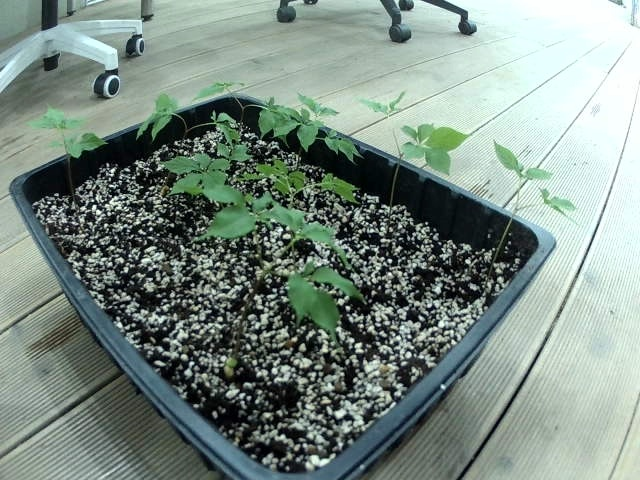수확기: (268, 243, 365, 334), (203, 178, 312, 244), (274, 191, 357, 263), (395, 116, 467, 190), (527, 177, 607, 243), (163, 143, 231, 208), (478, 131, 557, 186), (53, 127, 126, 173), (131, 86, 184, 146), (234, 87, 285, 147), (312, 119, 367, 172), (199, 102, 258, 150), (345, 79, 408, 123), (25, 99, 91, 139), (291, 69, 335, 127), (271, 108, 321, 159), (311, 170, 362, 220), (276, 151, 321, 207), (198, 64, 250, 110)
